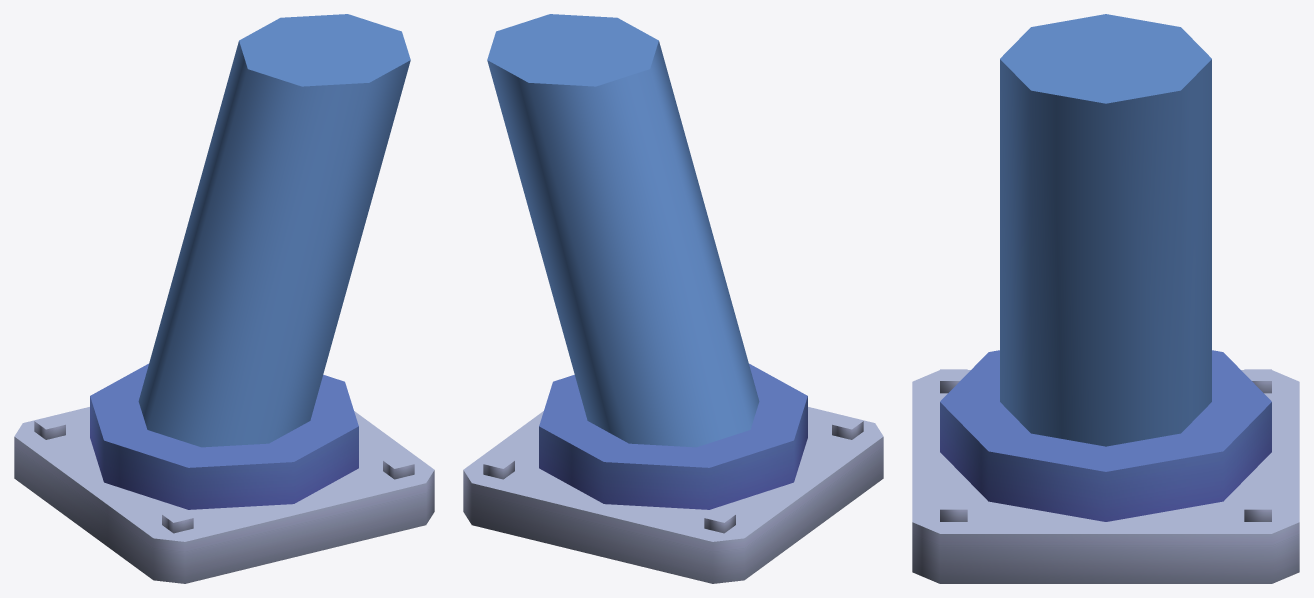
The model's file is kenney-coaster-support-large-skew-bottom.glb.
3 renders of one model, left to right at view 1: azimuth 30°, elevation 25°; view 2: azimuth 150°, elevation 25°; view 3: azimuth 270°, elevation 25°, orthographic. The views are drawn at different scales.
Visible parts, largest first — view 1: support-large-skew-bottom; view 2: support-large-skew-bottom; view 3: support-large-skew-bottom.
Boxes of the visible parts, left/top/right/bottom form: support-large-skew-bottom: left=14, top=14, right=434, bottom=583; support-large-skew-bottom: left=463, top=14, right=883, bottom=583; support-large-skew-bottom: left=912, top=14, right=1299, bottom=583.
Bounding box in the file's own units: 0.7917 × 1 × 0.7.
1 material, 1 textured.
